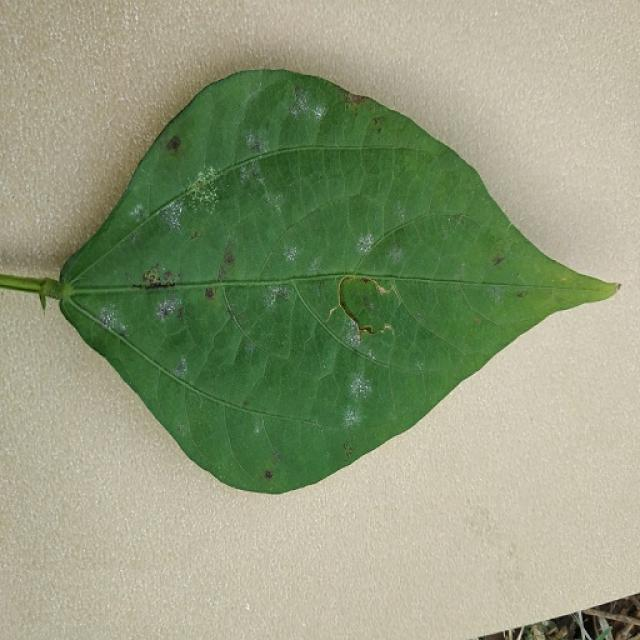Blackgram: (60, 70, 618, 492)
Powdery_Mildew: (185, 166, 223, 212), (254, 166, 289, 213), (136, 263, 180, 290), (142, 299, 182, 324), (288, 87, 316, 118), (348, 373, 372, 404), (161, 202, 184, 230), (224, 297, 243, 327), (99, 307, 121, 332), (267, 284, 291, 306), (344, 322, 363, 348), (237, 161, 258, 183), (344, 91, 368, 109), (343, 406, 360, 427), (356, 234, 374, 253), (387, 245, 404, 264), (246, 133, 263, 151), (143, 267, 161, 284), (489, 286, 505, 304), (129, 203, 145, 221), (166, 135, 182, 153), (371, 115, 386, 133), (173, 358, 187, 377), (360, 295, 376, 311), (453, 262, 468, 279), (283, 245, 298, 261), (128, 231, 142, 247), (393, 202, 406, 219), (244, 340, 257, 356), (217, 266, 230, 282), (309, 256, 321, 272), (452, 214, 468, 226), (343, 442, 353, 458), (223, 251, 235, 264), (491, 254, 504, 266), (415, 358, 425, 371), (205, 288, 215, 299), (253, 421, 261, 434), (273, 451, 282, 461), (516, 290, 527, 298), (264, 470, 273, 479), (190, 231, 200, 239), (242, 399, 250, 408), (447, 216, 455, 225)
